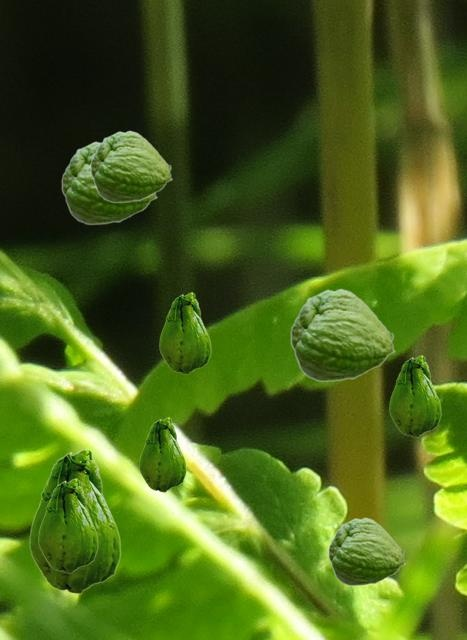sayote: (29, 448, 120, 593), (290, 288, 395, 381), (61, 141, 157, 224), (90, 130, 172, 202), (38, 478, 97, 572), (328, 517, 405, 585), (159, 292, 210, 373), (389, 355, 440, 436), (139, 417, 185, 491)
